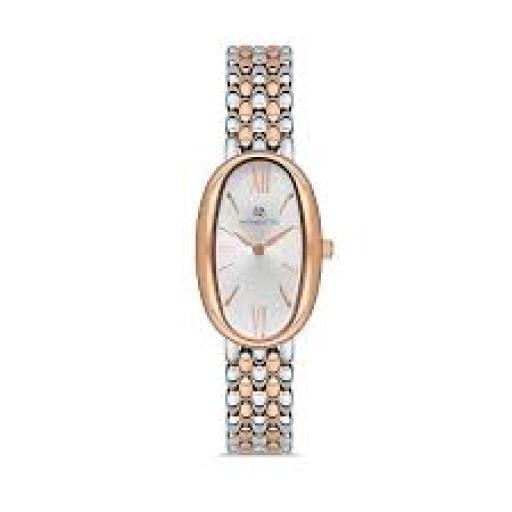KolSaati: (171, 26, 359, 481)
